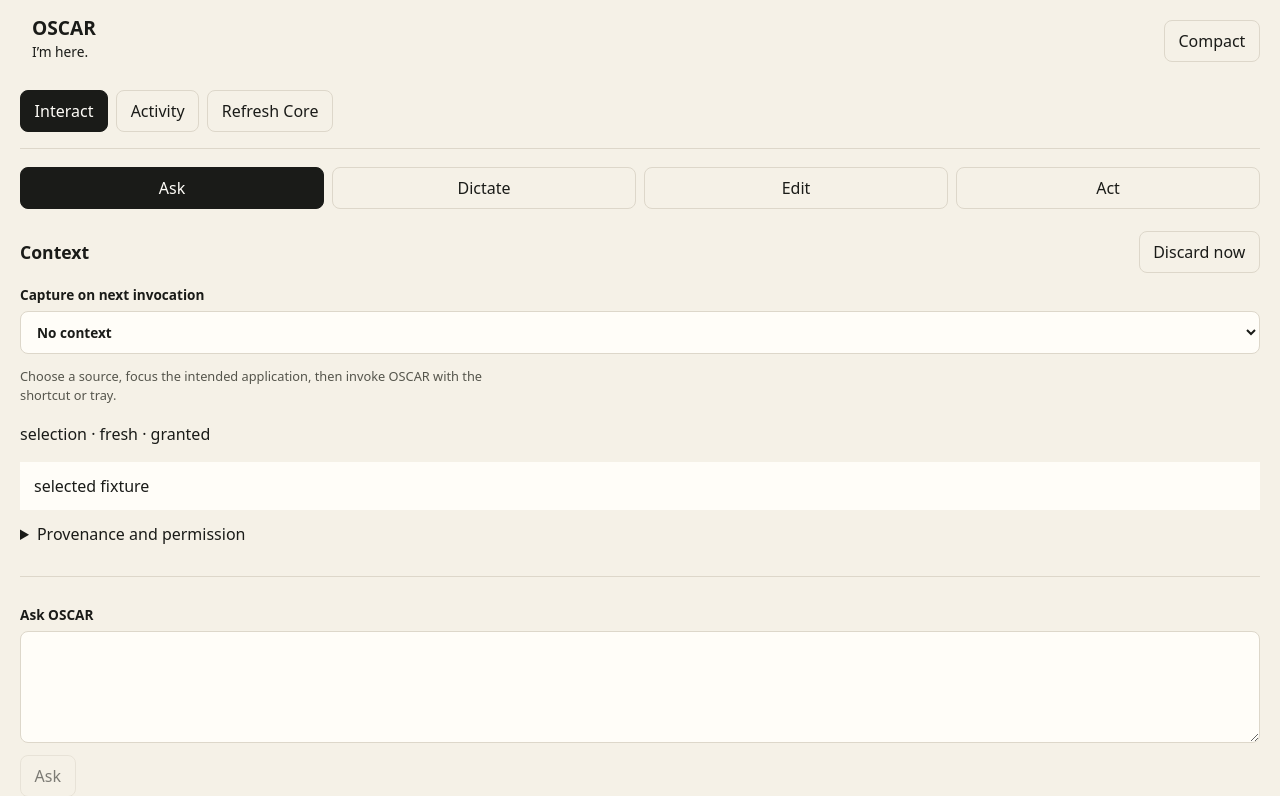
Test case: OSCAR surface contract › shows attachment provenance and discards context immediately through Core
Check: the text "selected fixture" is shown, box top-left (20, 462), bottom-right (1260, 510)
Click the button "Discard now": coordinates (1199, 252) top-left (1139, 231), bottom-right (1260, 273)
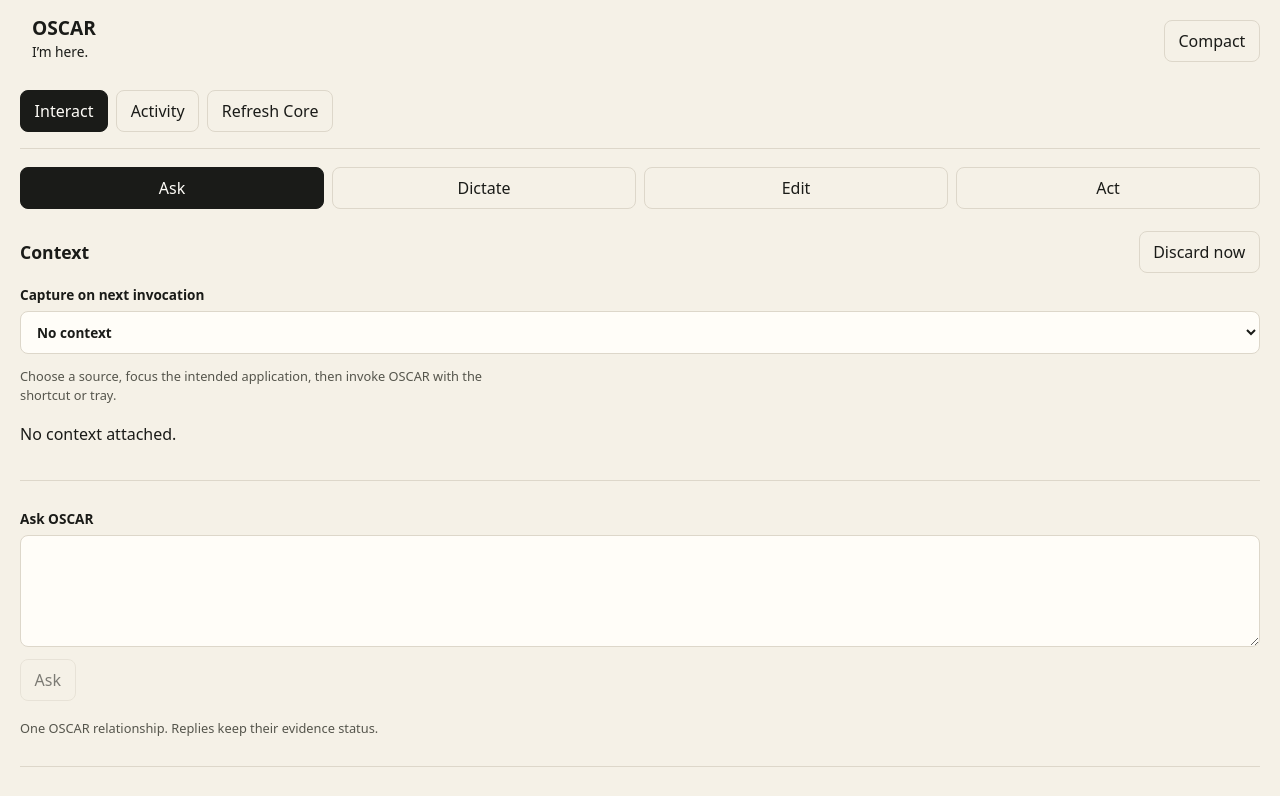
Check: the text "No context attached." is shown, box top-left (20, 423), bottom-right (176, 445)
